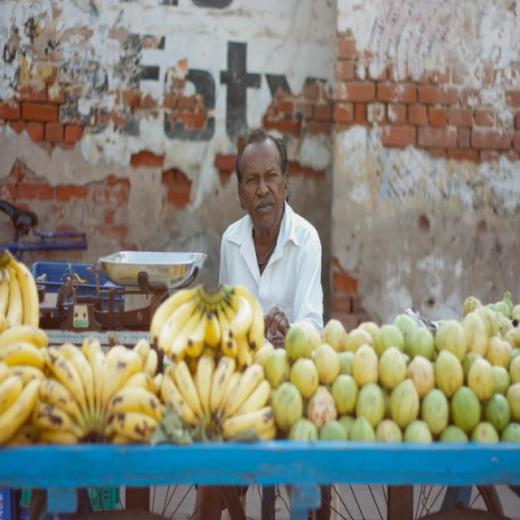Banana: (0, 248, 282, 440)
